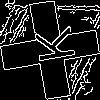K: (25, 25, 76, 67)
